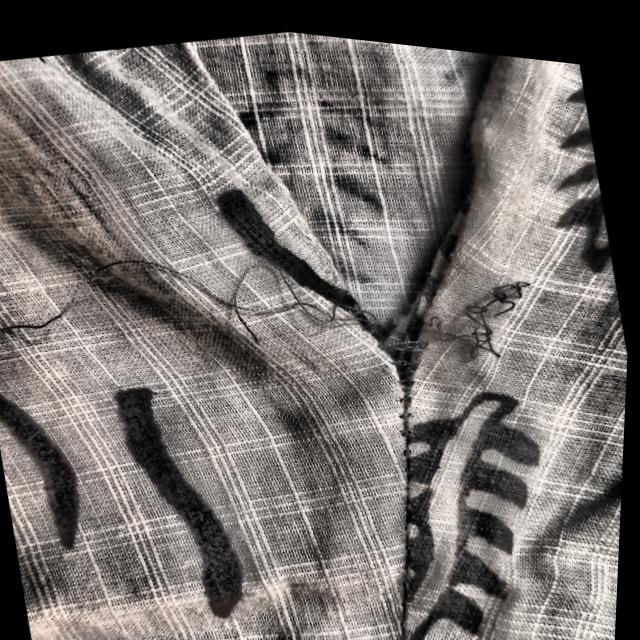Stitch: (0, 143, 598, 493)
